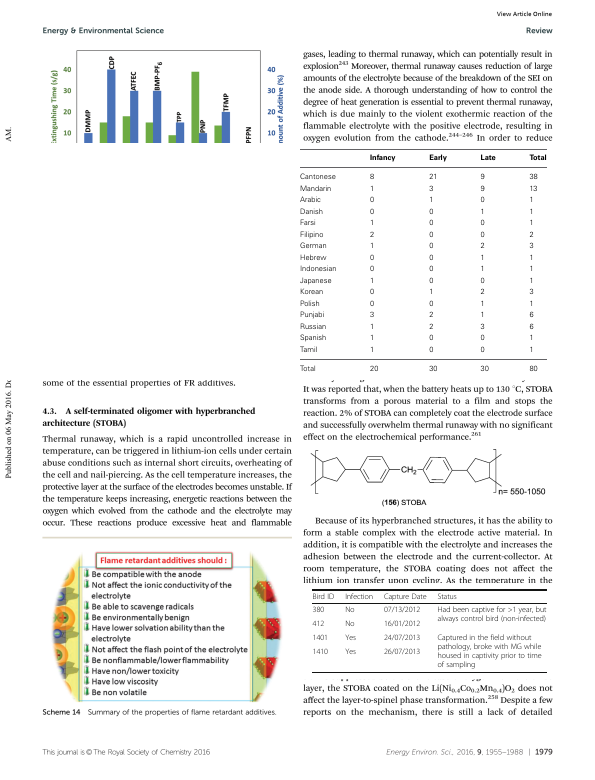borderless: (298, 148, 548, 374), (312, 588, 547, 672)
cell: (436, 633, 542, 670), (436, 605, 547, 624), (383, 592, 427, 601), (383, 605, 421, 615), (383, 619, 421, 629), (383, 633, 421, 643), (383, 647, 421, 657), (299, 265, 337, 274), (299, 173, 336, 182), (299, 185, 332, 194), (299, 277, 332, 286), (344, 592, 374, 601), (368, 154, 396, 163), (299, 242, 327, 251), (299, 254, 327, 263), (299, 323, 327, 332), (299, 334, 327, 343), (299, 311, 325, 320), (299, 231, 324, 240), (299, 288, 324, 297), (299, 208, 323, 217), (312, 592, 335, 601), (436, 592, 458, 601), (299, 196, 321, 205), (299, 300, 320, 309), (428, 154, 447, 163), (528, 154, 547, 163), (299, 346, 318, 355), (312, 633, 329, 643), (312, 647, 329, 657), (479, 154, 496, 163), (299, 219, 316, 228), (299, 365, 316, 374), (312, 605, 325, 615), (312, 619, 325, 629), (344, 633, 357, 643), (344, 647, 357, 657), (344, 605, 355, 615), (344, 619, 355, 629), (368, 365, 379, 374), (428, 173, 438, 182), (528, 173, 538, 182), (528, 185, 538, 194), (428, 365, 438, 374), (479, 365, 489, 374), (528, 365, 538, 374), (368, 173, 375, 182), (368, 185, 375, 194), (368, 196, 375, 205), (368, 208, 375, 217), (368, 219, 375, 228), (368, 231, 375, 240), (368, 242, 375, 251), (368, 254, 375, 263), (368, 265, 375, 274), (368, 277, 375, 286), (368, 288, 375, 297), (368, 300, 375, 309), (368, 311, 375, 320), (368, 323, 375, 332), (368, 334, 375, 343), (368, 346, 375, 355), (479, 173, 485, 182), (428, 185, 434, 194), (479, 185, 485, 194), (428, 196, 434, 205), (479, 196, 485, 205), (528, 196, 534, 205), (428, 208, 434, 217), (479, 208, 485, 217), (528, 208, 534, 217), (428, 219, 434, 228), (479, 219, 485, 228), (528, 219, 534, 228), (428, 231, 434, 240), (479, 231, 485, 240), (528, 231, 534, 240), (428, 242, 434, 251), (479, 242, 485, 251), (528, 242, 534, 251), (428, 254, 434, 263), (479, 254, 485, 263), (528, 254, 534, 263), (428, 265, 434, 274), (479, 265, 485, 274), (528, 265, 534, 274), (428, 277, 434, 286), (479, 277, 485, 286), (528, 277, 534, 286), (428, 288, 434, 297), (479, 288, 485, 297), (528, 288, 534, 297), (428, 300, 434, 309), (479, 300, 485, 309), (528, 300, 534, 309), (428, 311, 434, 320), (479, 311, 485, 320), (528, 311, 534, 320), (428, 323, 434, 332), (479, 323, 485, 332), (528, 323, 534, 332), (428, 334, 434, 343), (479, 334, 485, 343), (528, 334, 534, 343), (428, 346, 434, 355), (479, 346, 485, 355), (528, 346, 534, 355)
